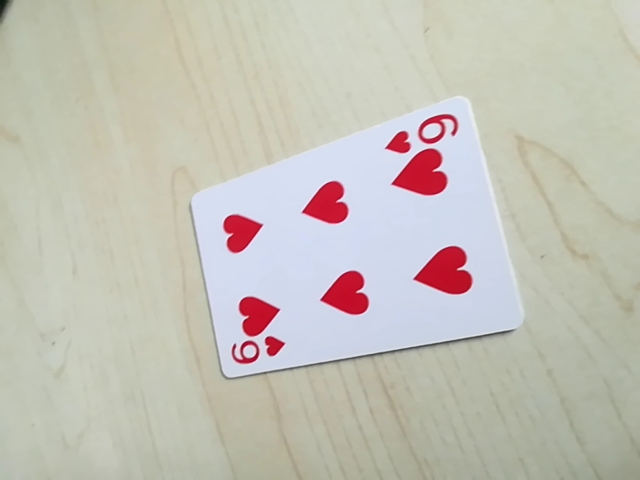hx 6: (385, 111, 462, 155), (226, 335, 286, 372)
